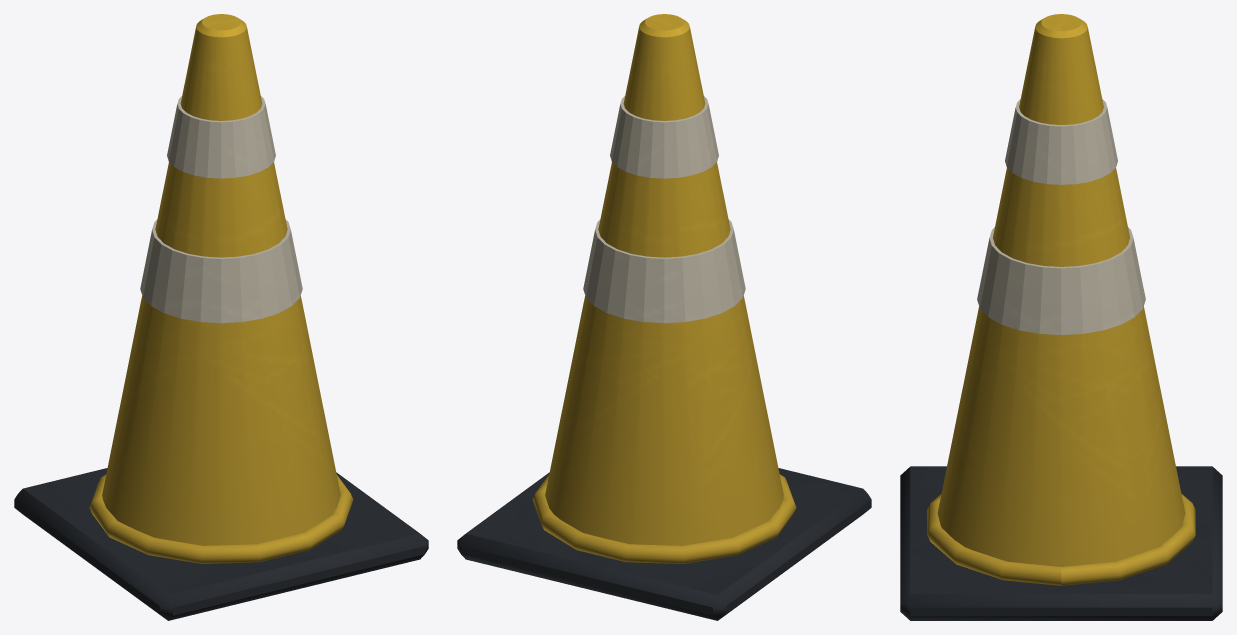
The model's file is traffic_cone.glb.
3 views of the same model, side by side, from view 1: azimuth 30°, elevation 25°; view 2: azimuth 150°, elevation 25°; view 3: azimuth 270°, elevation 25° (orthographic). The views are drawn at different scales.
Parts seen in each view (by area): view 1: traffic_cone; view 2: traffic_cone; view 3: traffic_cone.
Boxes of the visible parts, x1,y1,x2,y2 form: traffic_cone: (14, 14, 428, 620); traffic_cone: (457, 14, 871, 620); traffic_cone: (900, 14, 1222, 620).
Bounding box in the file's own units: 0.38 × 0.695 × 0.38.
3 materials, 3 textured.
